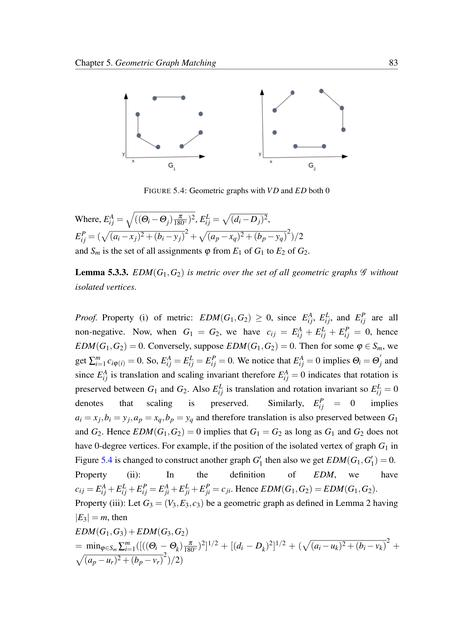box: (117, 83, 351, 174)
